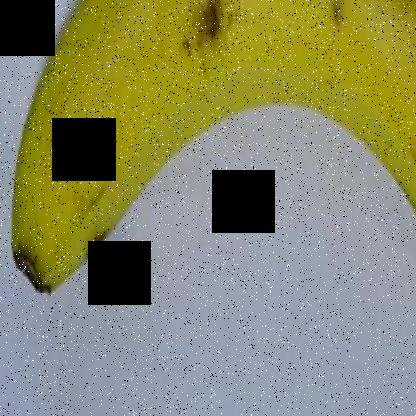freshripe: (4, 1, 415, 300)
